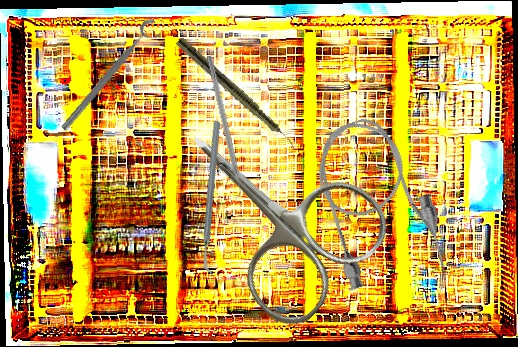Cannula: (300, 106, 456, 301)
Chopper: (148, 119, 278, 277), (198, 55, 246, 203)
Fixation Ring: (57, 15, 167, 139)
Handpiece: (174, 36, 301, 153)
Iris Scissors: (140, 79, 402, 339)
